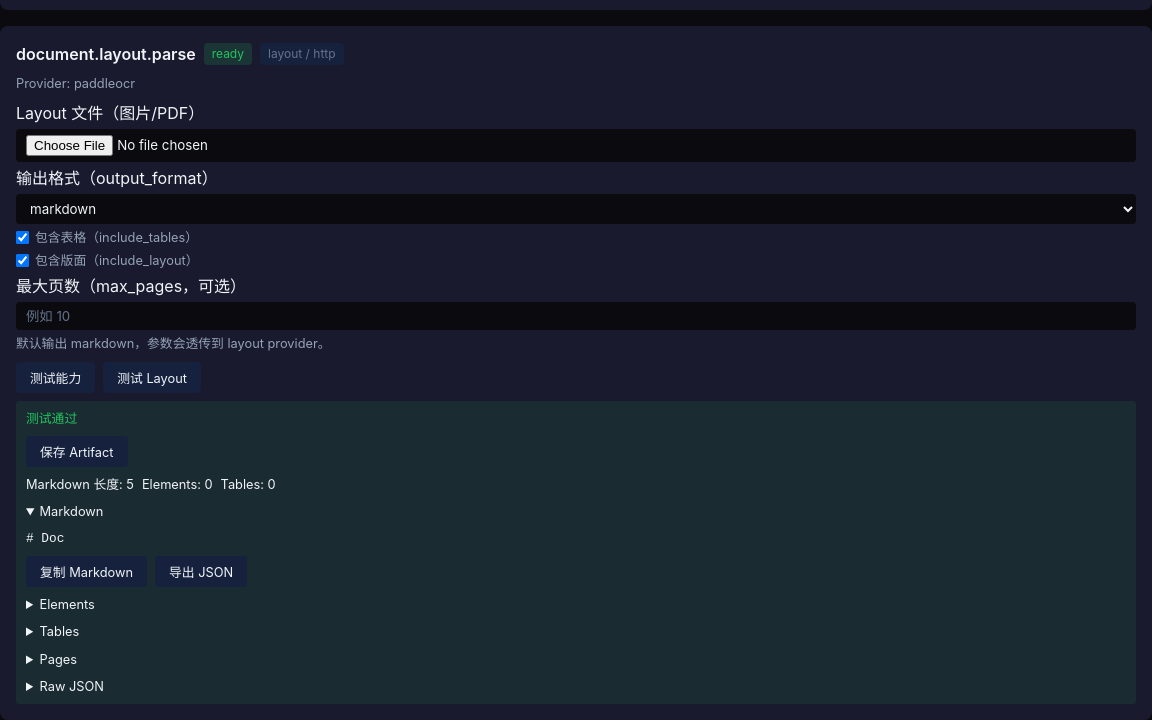
CapabilityProviderDiagnosticsPanel › displays structured document artifact persist errors
Click the button "保存 Artifact": point(77, 451) [26,436,128,467]
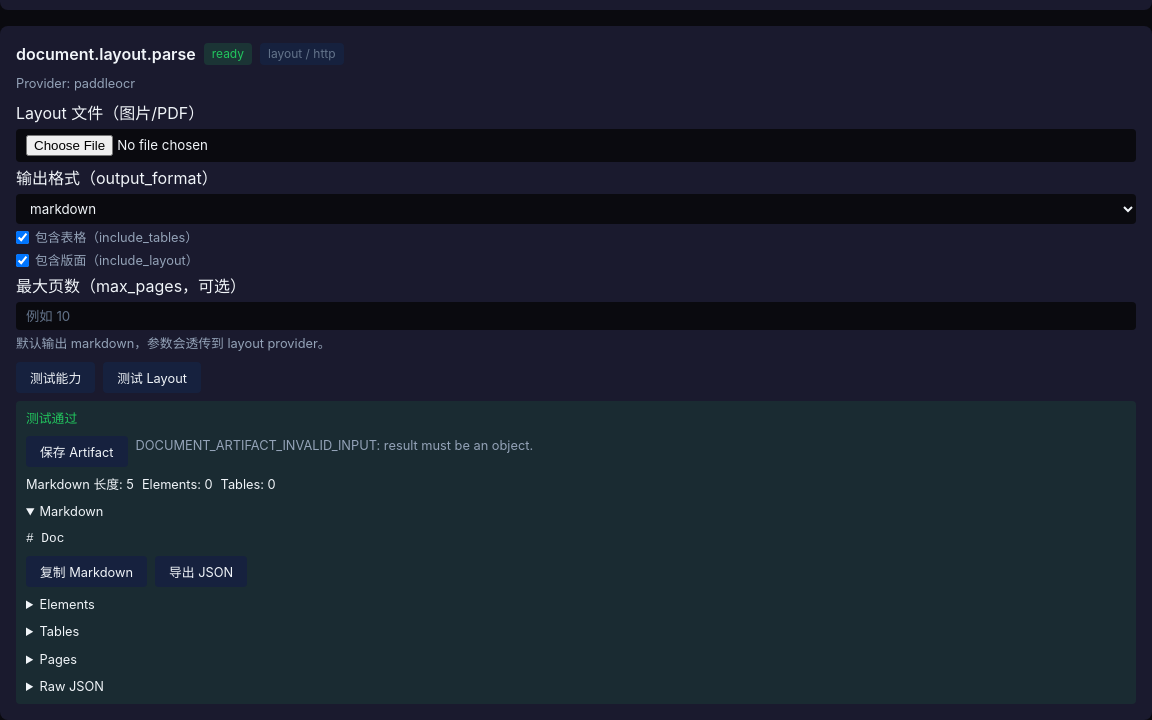
Expected: the text "DOCUMENT_ARTIFACT_INVALID_INPUT: result must be an object." is shown, [136,438,533,453]
